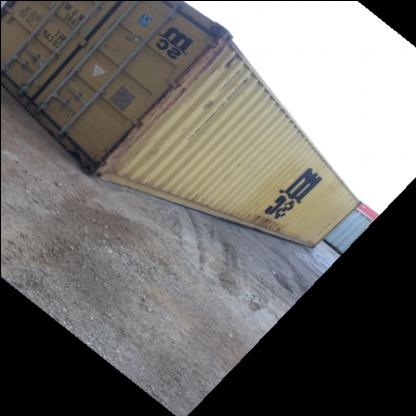Damage: (171, 35, 225, 81), (95, 115, 135, 165), (142, 74, 170, 112), (247, 209, 286, 228), (320, 178, 338, 200)
